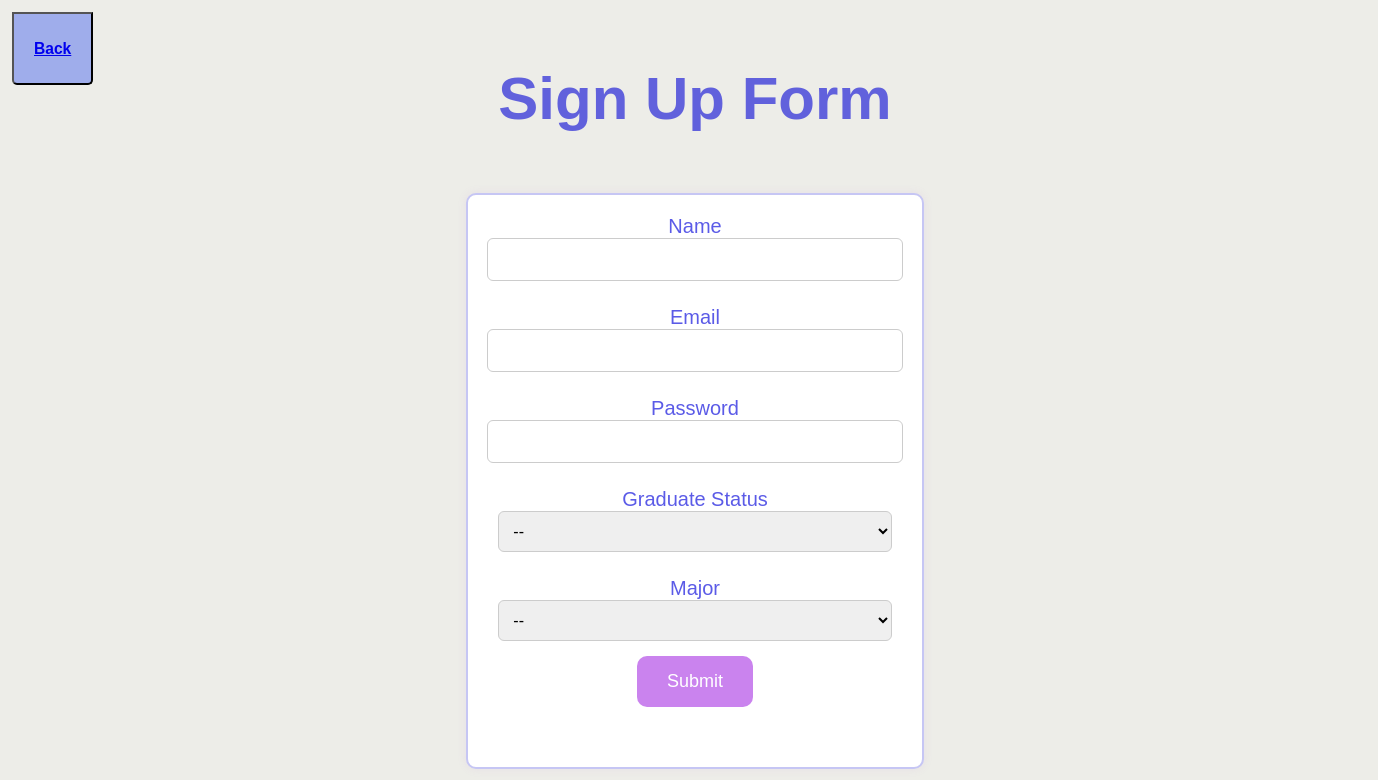
Test: SignUpForm component › submits the form with valid input
Step 1. Type "John Doe" into the field labelled "Name" → (695, 259), box [487,238,903,281]
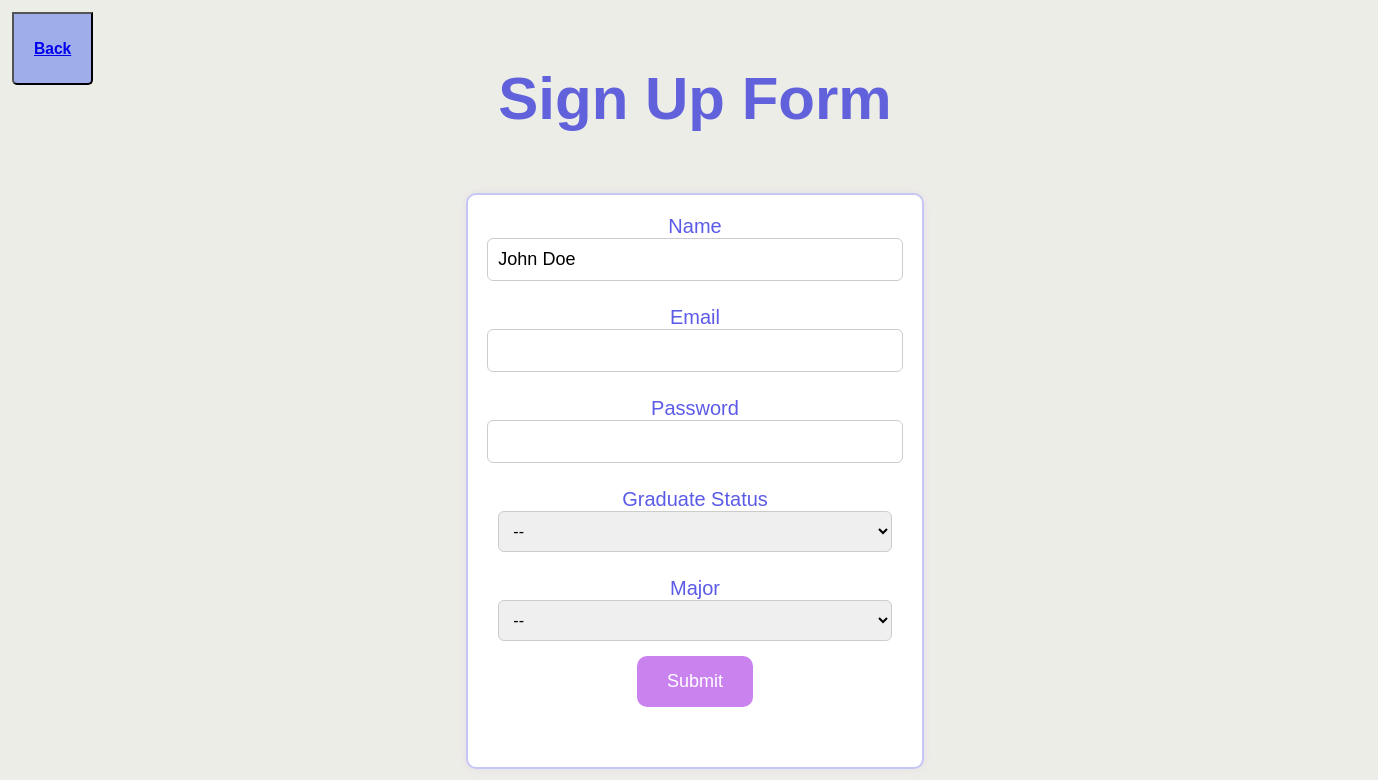
Step 2. Type "johndoe@example.com" into the field labelled "Email" → (695, 350), box [487,329,903,372]
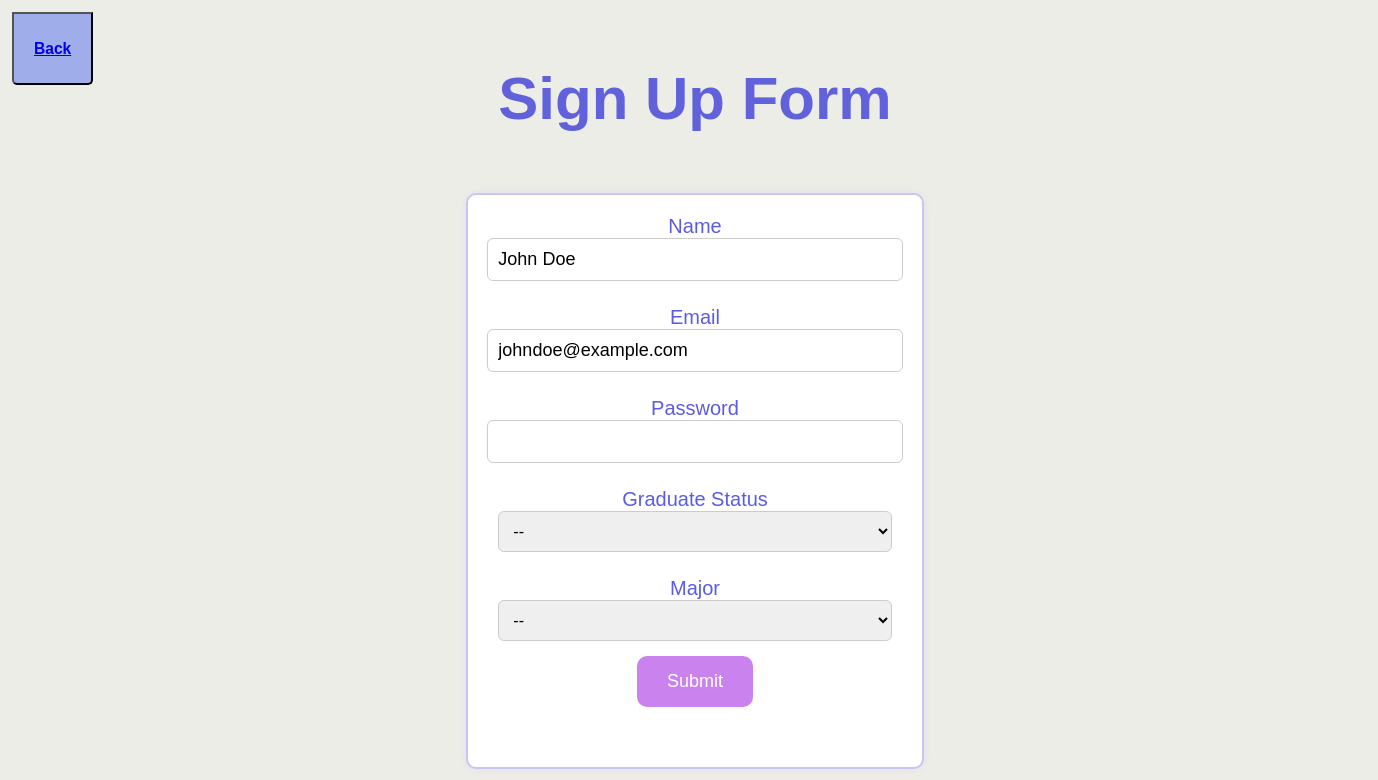
Step 3. Type "StrongP@ssword123" into the password field labelled "Password" → (695, 441), box [487,420,903,463]
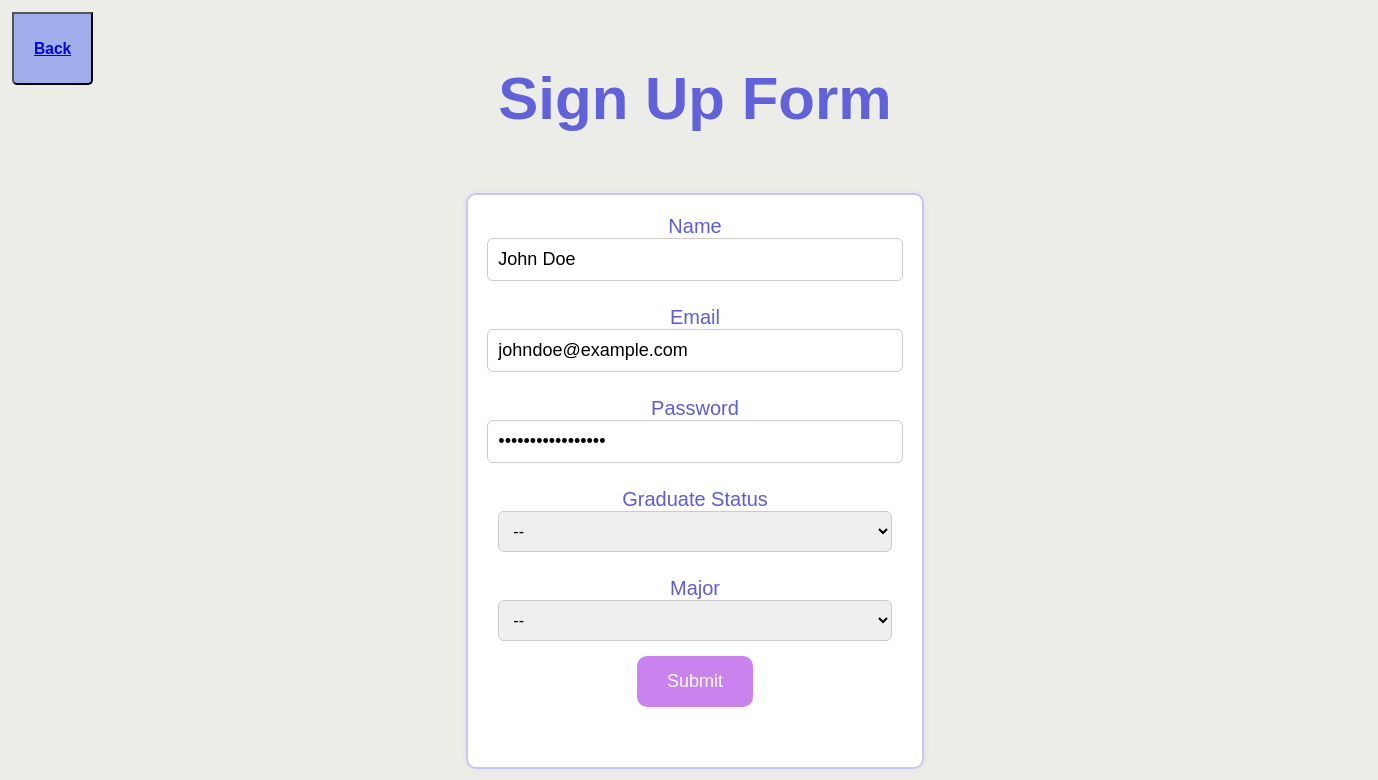
Step 4. Select "Grad" in the dropdown labelled "Graduate Status" → (695, 531), box [498,511,892,552]
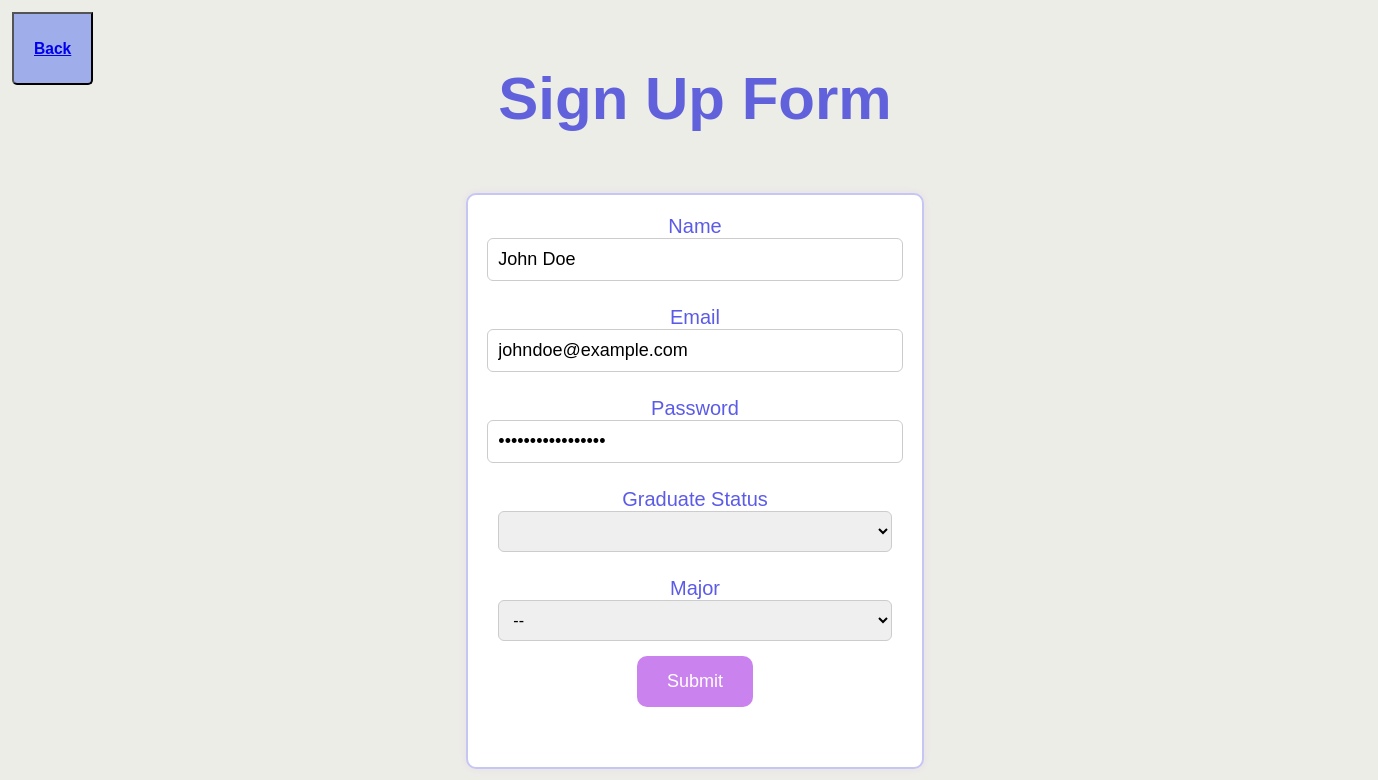
Step 5. Select "CompSci" in the dropdown labelled "Major" → (695, 620), box [498,600,892,641]
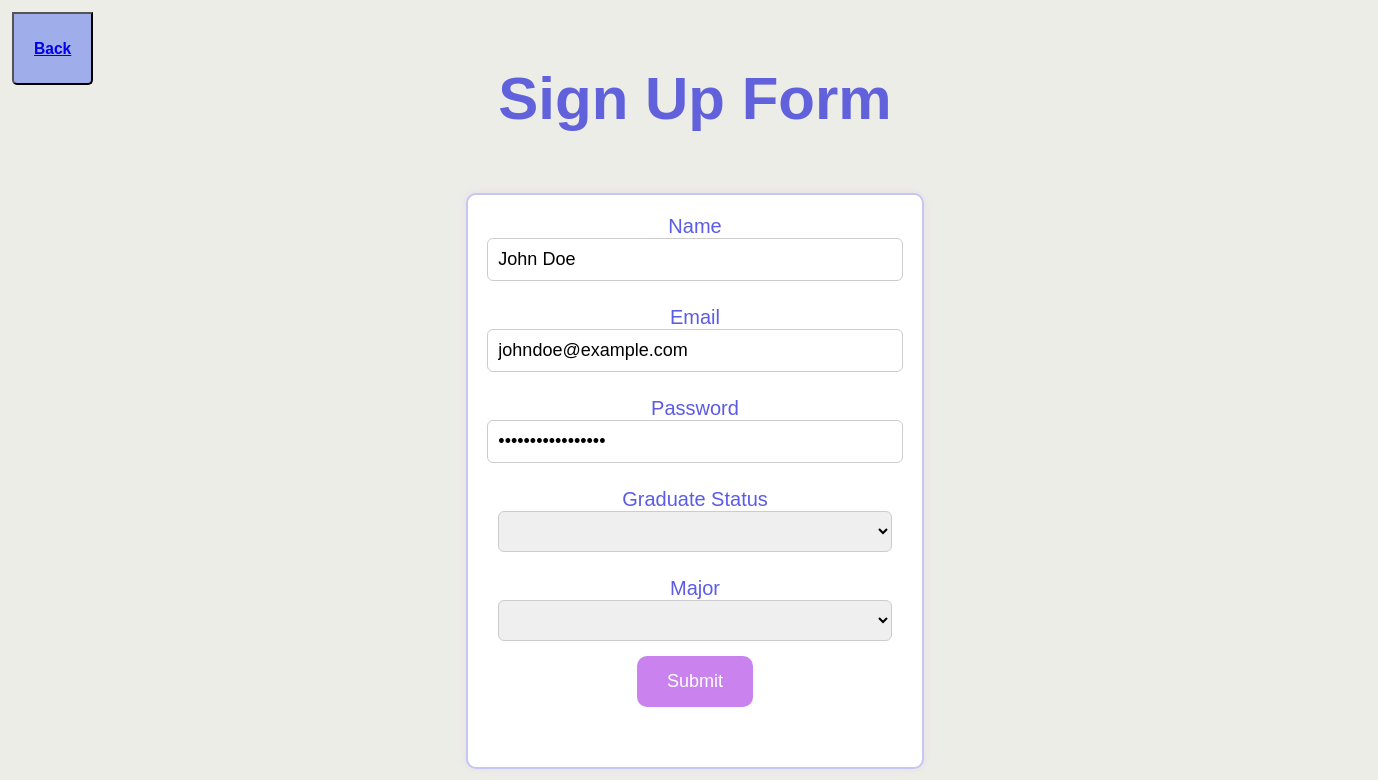
# Submit the form
Step 6. Click the button "Submit" → (695, 681), box [637,656,753,707]
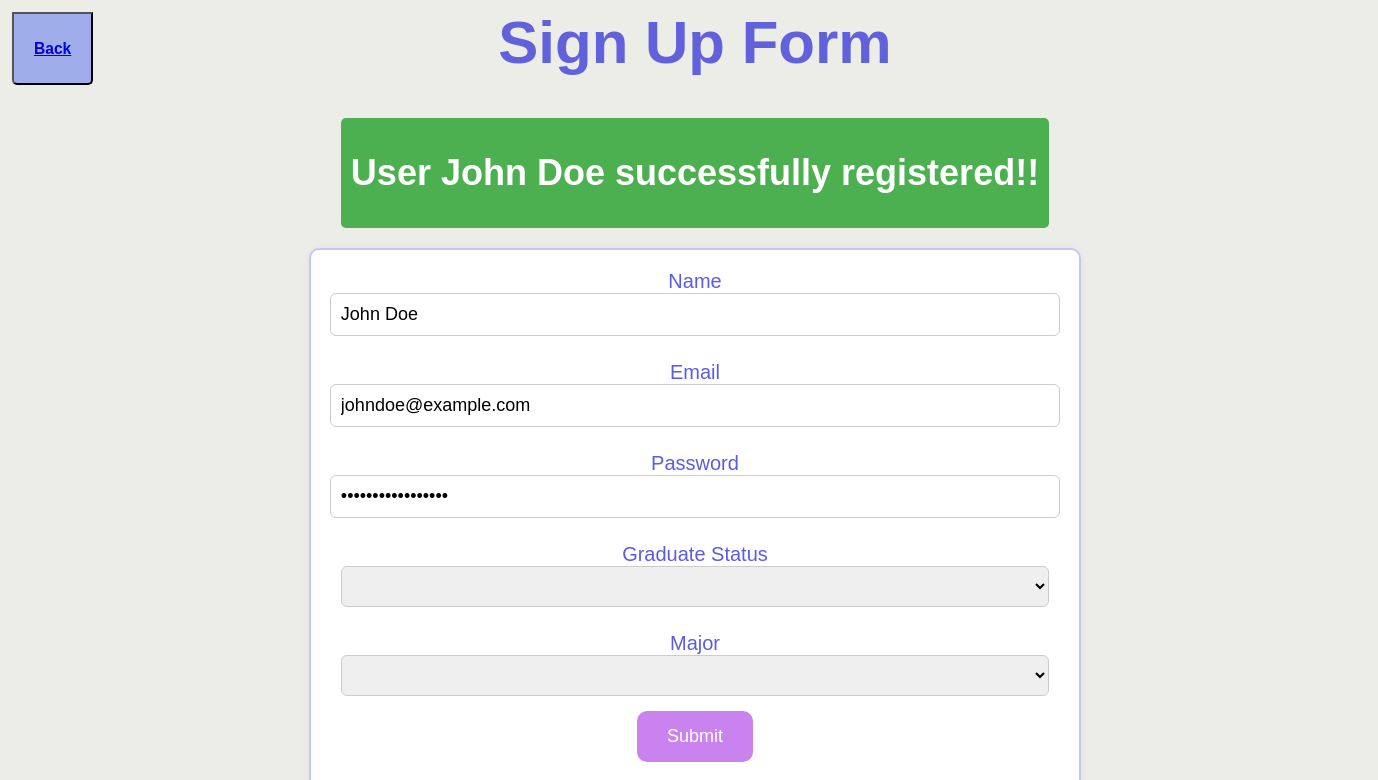
expect the heading "User John Doe successfully registered!!" is shown: met, box [351,152,1039,194]
